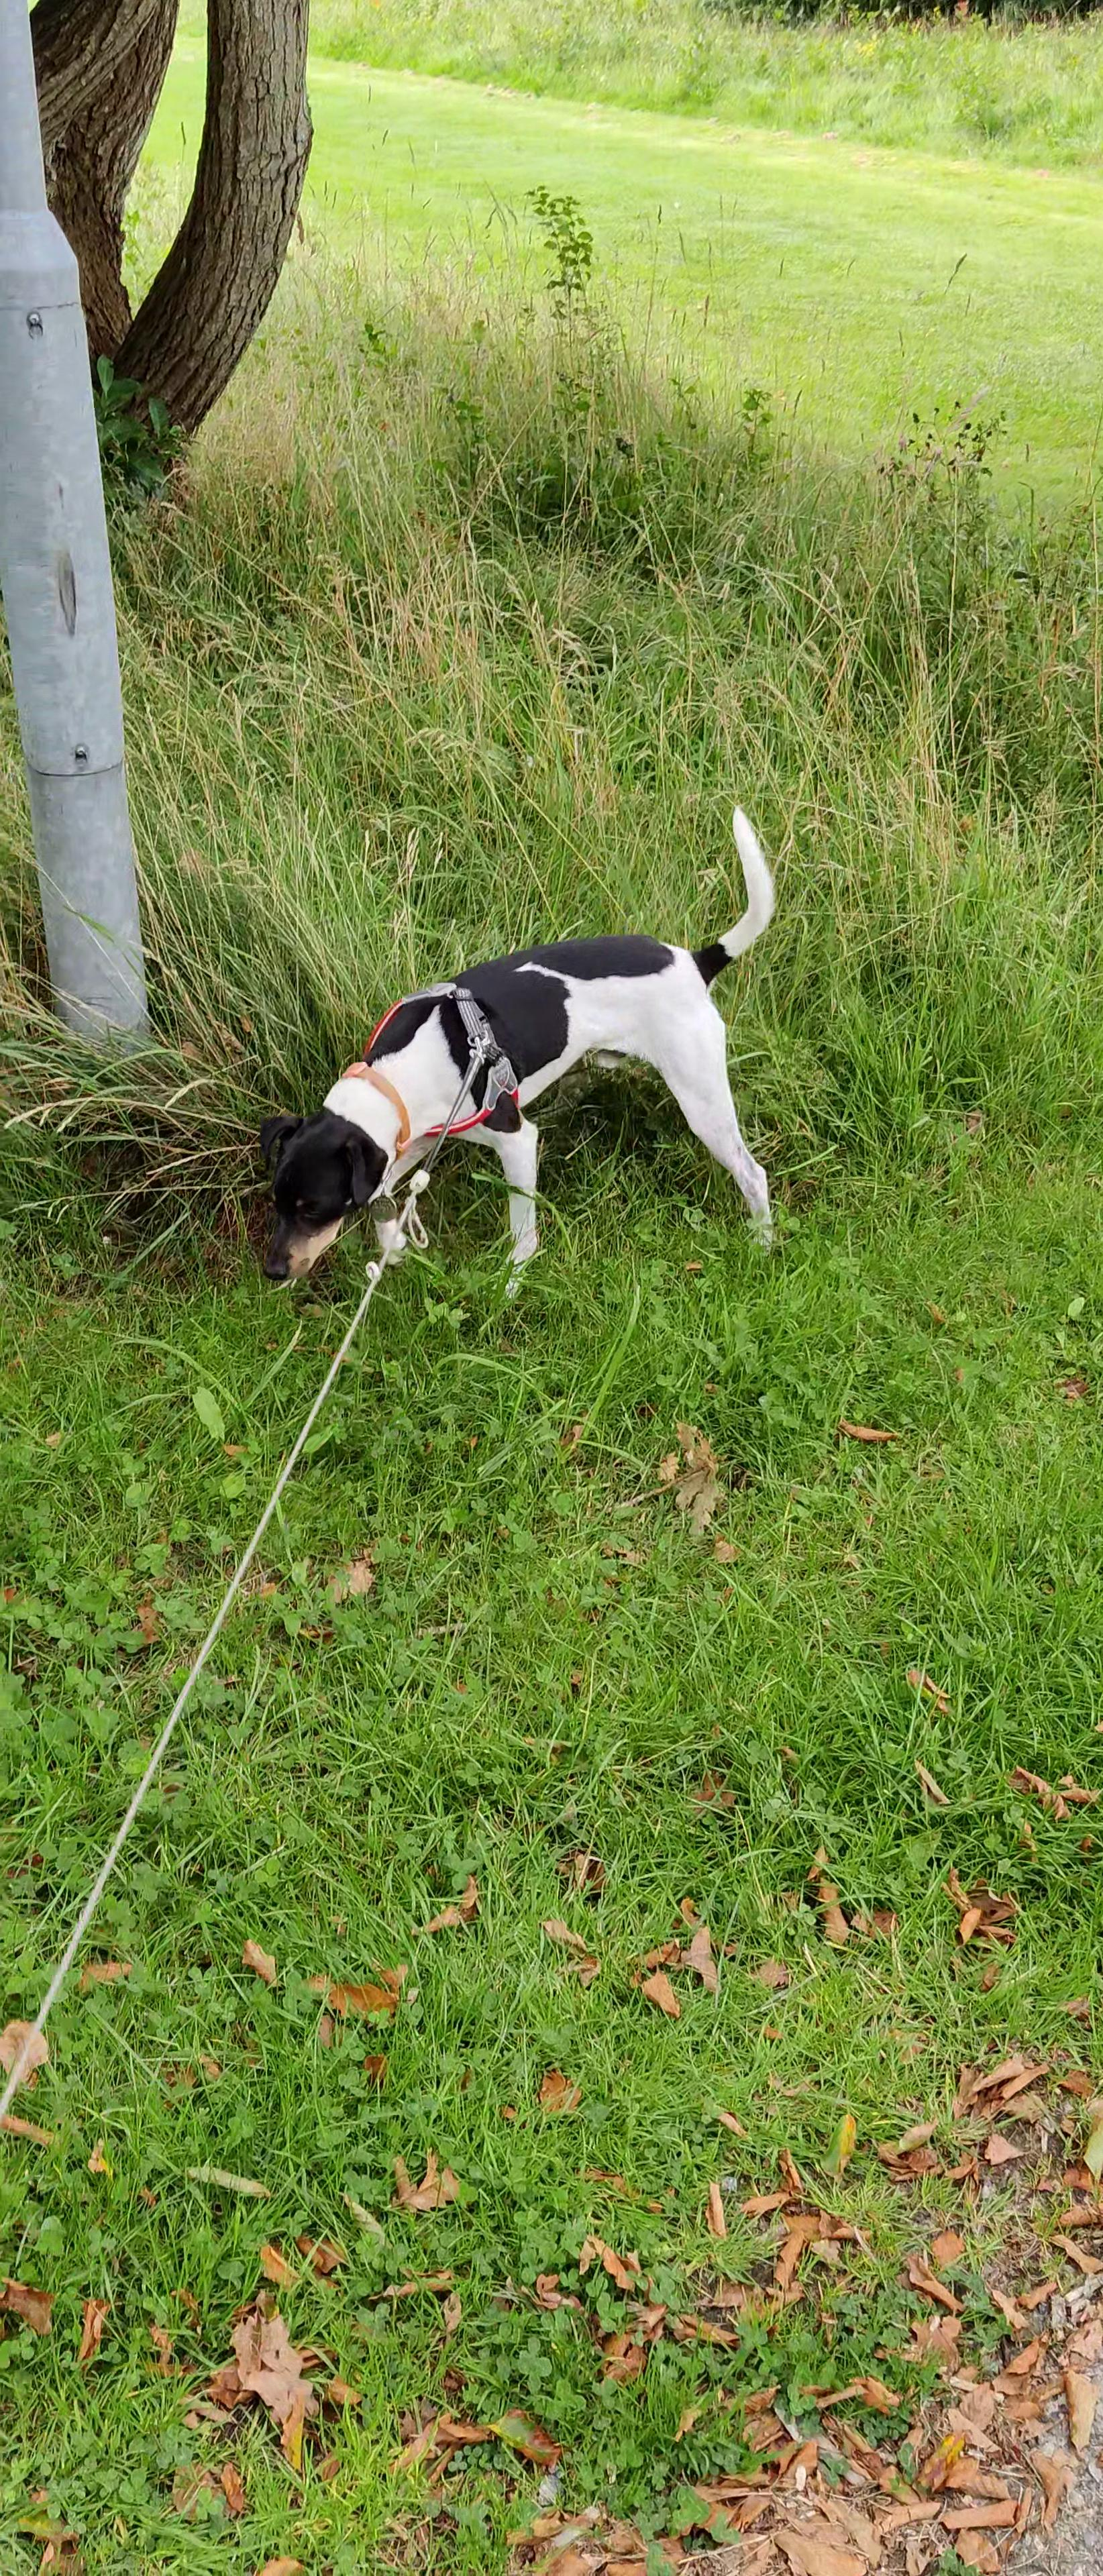Dog: (248, 800, 781, 1309)
